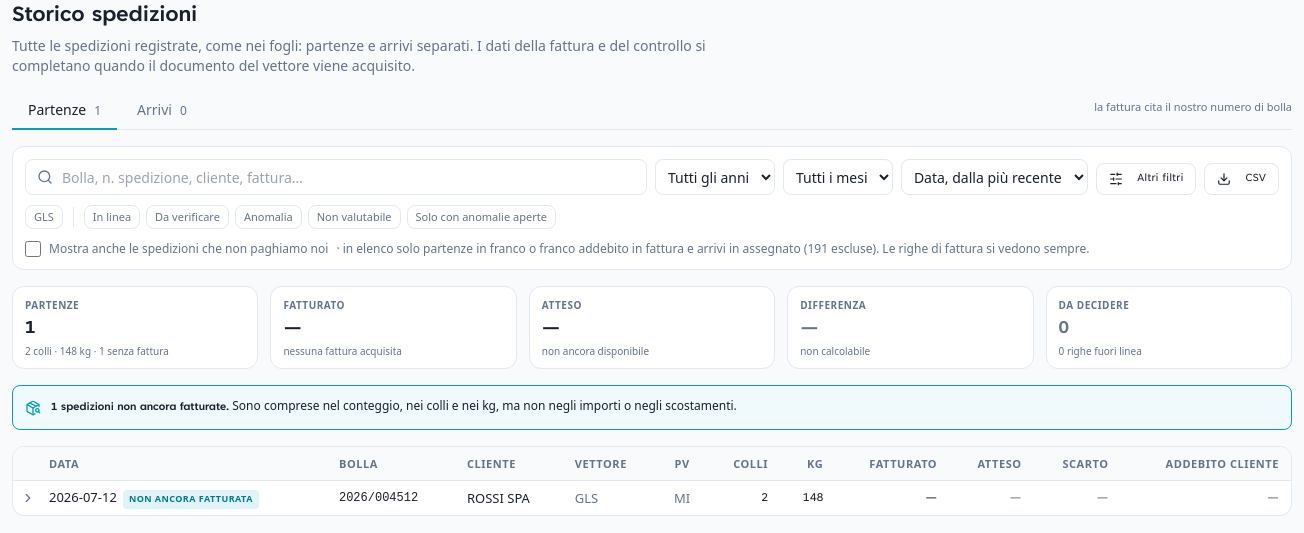
Test: StoricoView: solo le spedizioni a nostro carico, salvo richiesta › dice quante ne nasconde e le mostra su richiesta, senza toccare le righe di fattura
Expected: the text "Le righe di fattura si vedono sempre" is shown, [336, 240, 1090, 257]
Click the checkbox labelled "Mostra anche le spedizioni che non paghiamo noi" at (33, 249), box [25, 241, 41, 257]
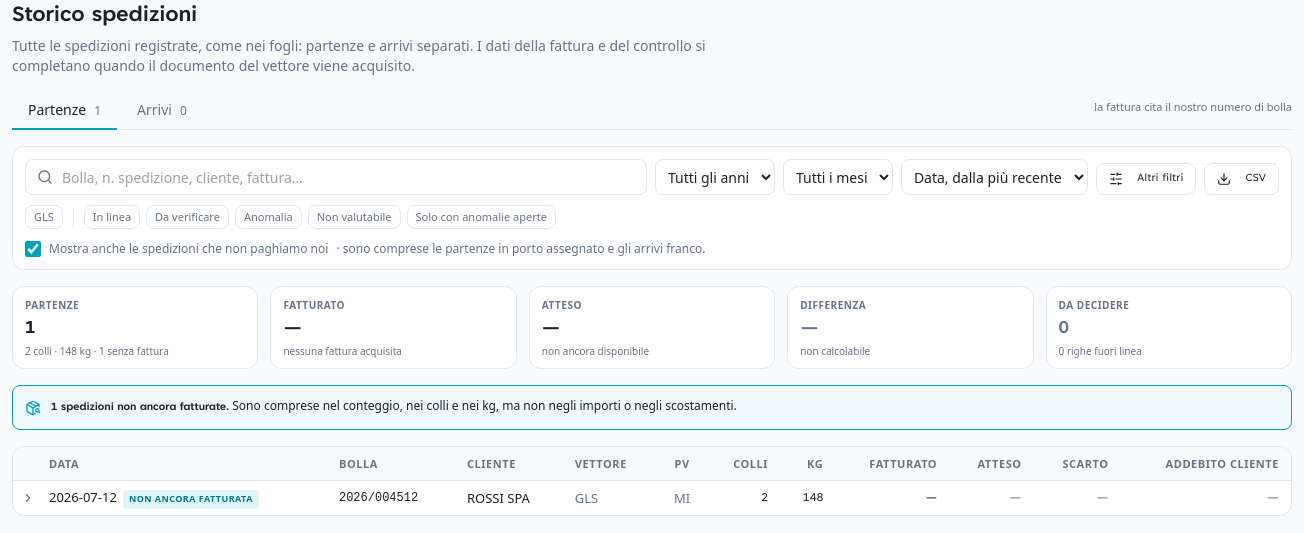
Now the text "sono comprese le partenze in porto assegnato" is shown, box [336, 240, 705, 257]
